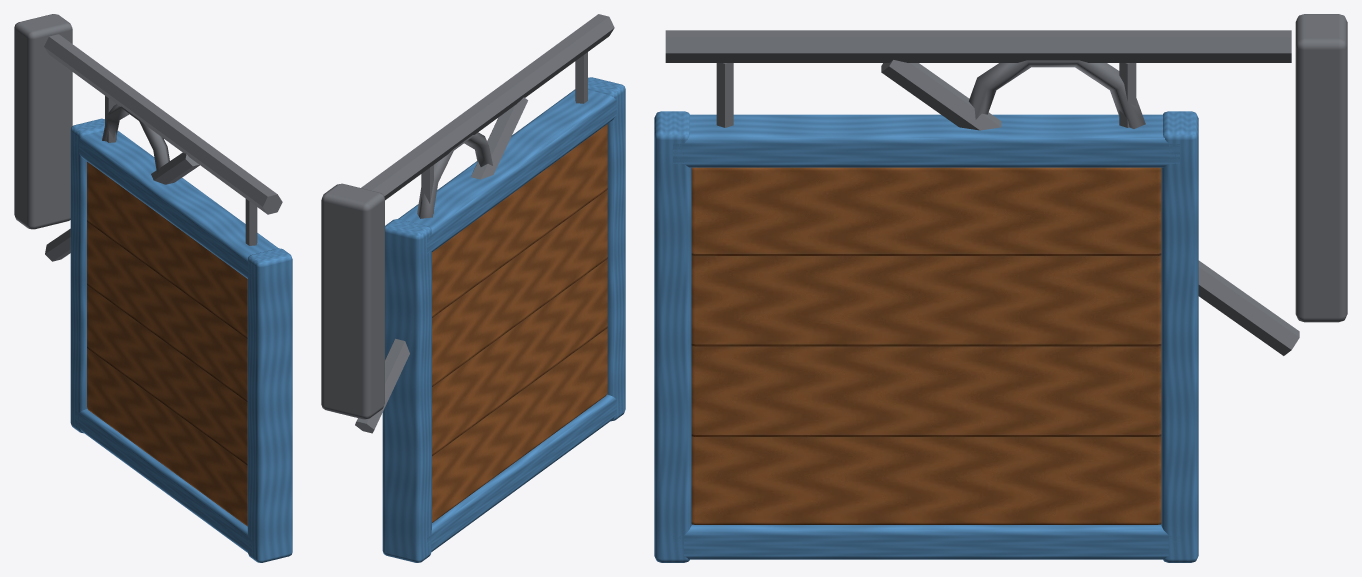
File: greek-island-village-and-harbour-taverna-sign-bracket-264c581a__37089.glb
The picture shows the model from 3 angles, left to right: view 1: azimuth 30°, elevation 25°; view 2: azimuth 150°, elevation 25°; view 3: azimuth 270°, elevation 25°; orthographic projection. The views are drawn at different scales.
Parts seen in each view (by area): view 1: taverna-sign-bracket; view 2: taverna-sign-bracket; view 3: taverna-sign-bracket.
Boxes of the visible parts, <box> form: taverna-sign-bracket: <box>14,14,292,562</box>; taverna-sign-bracket: <box>321,14,625,562</box>; taverna-sign-bracket: <box>654,14,1347,562</box>.
Bounding box in the file's own units: 0.1 × 0.78 × 0.93.
3 materials, 2 textured.
